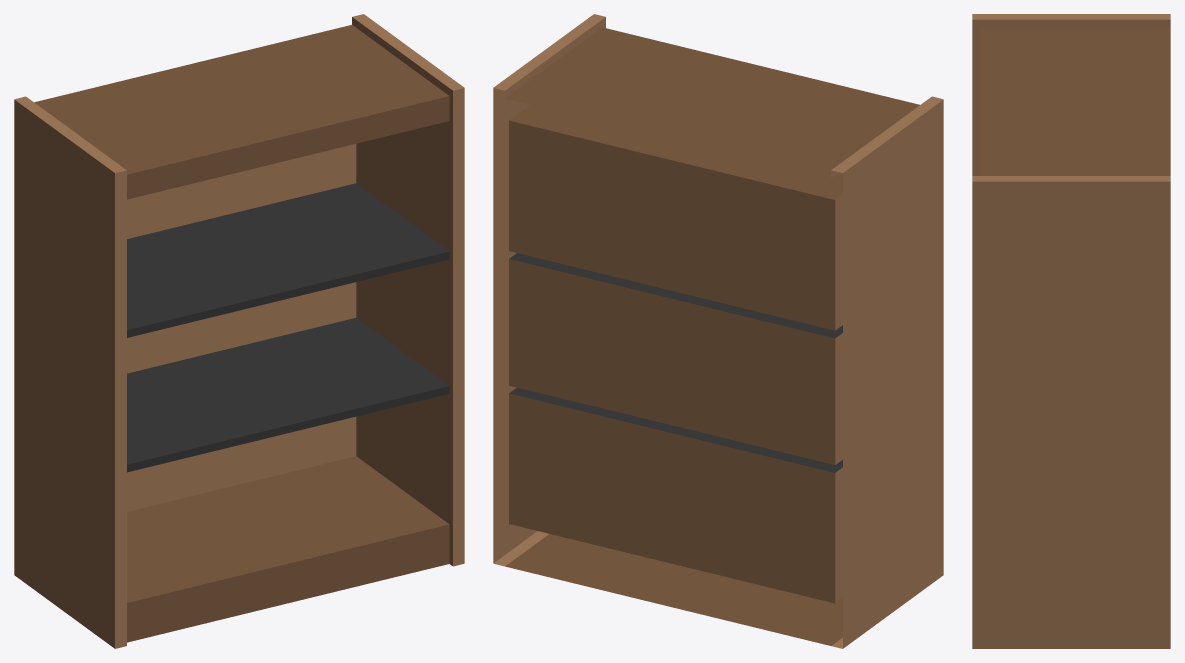
File: Int_LibraryShelf01.fbx
The picture shows the model from 3 angles, left to right: view 1: azimuth 30°, elevation 25°; view 2: azimuth 150°, elevation 25°; view 3: azimuth 270°, elevation 25°; orthographic projection.
Visible parts, largest first — view 1: Int_LibraryShelf01; view 2: Int_LibraryShelf01; view 3: Int_LibraryShelf01.
Part boxes in pixels (x1,y1,x2,y2): Int_LibraryShelf01: (14,14,464,648); Int_LibraryShelf01: (493,14,943,648); Int_LibraryShelf01: (972,14,1170,648).
Size of what is drawn, in the model's own units: 100 by 50 by 130.
